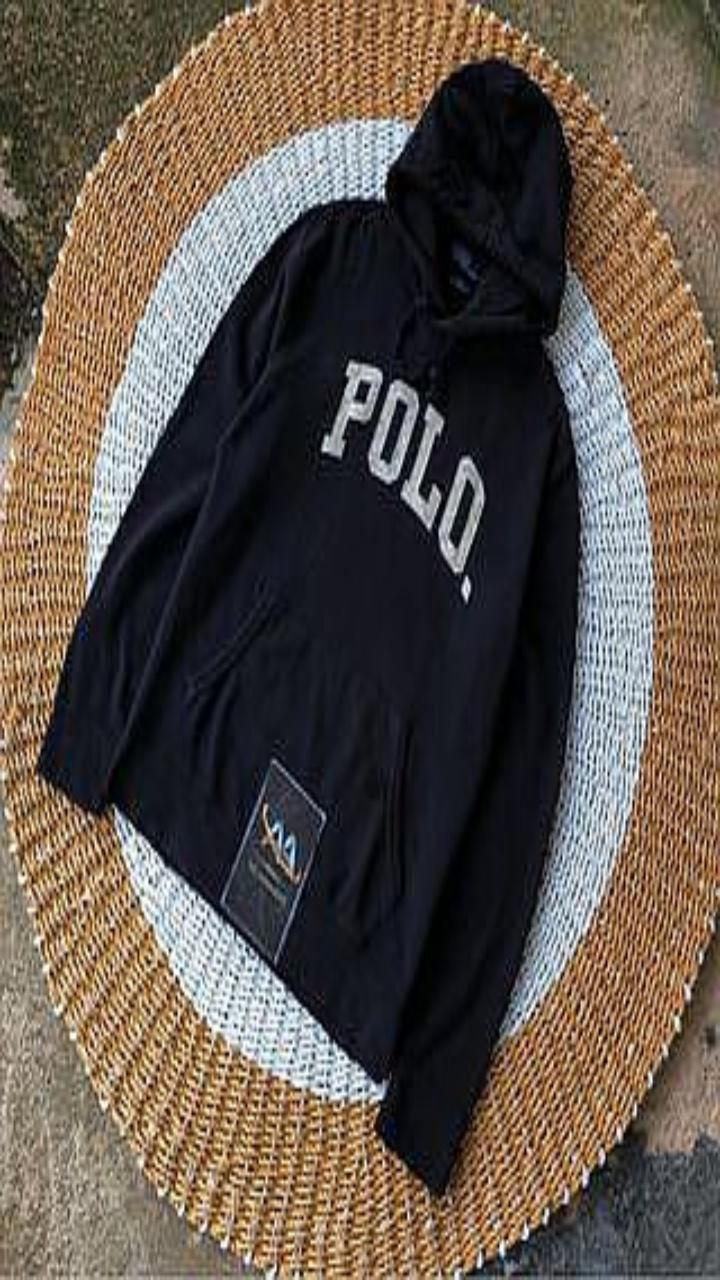Hoodie: (37, 58, 578, 1193)
